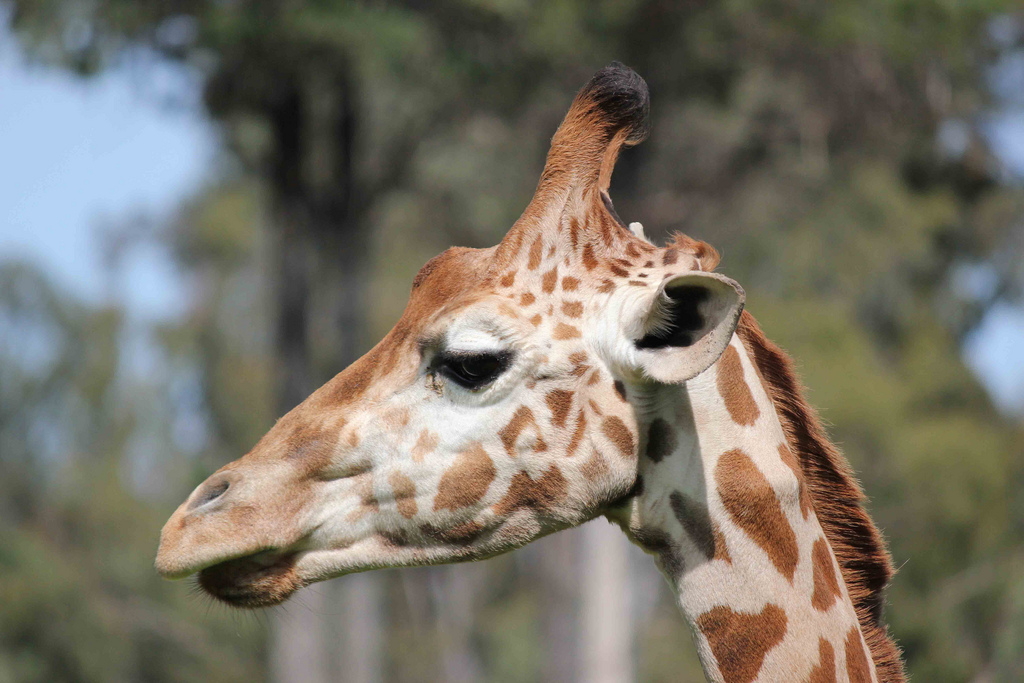giraffe: (164, 60, 944, 648)
